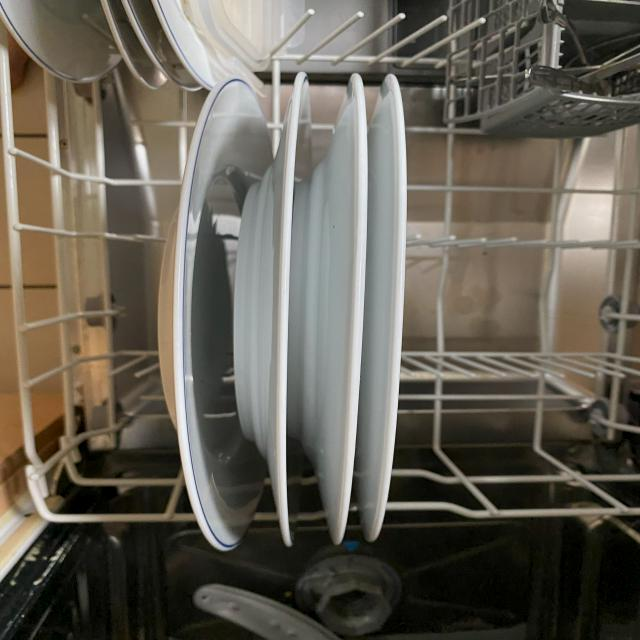empty_slot: (420, 134, 632, 499), (30, 116, 154, 487)
